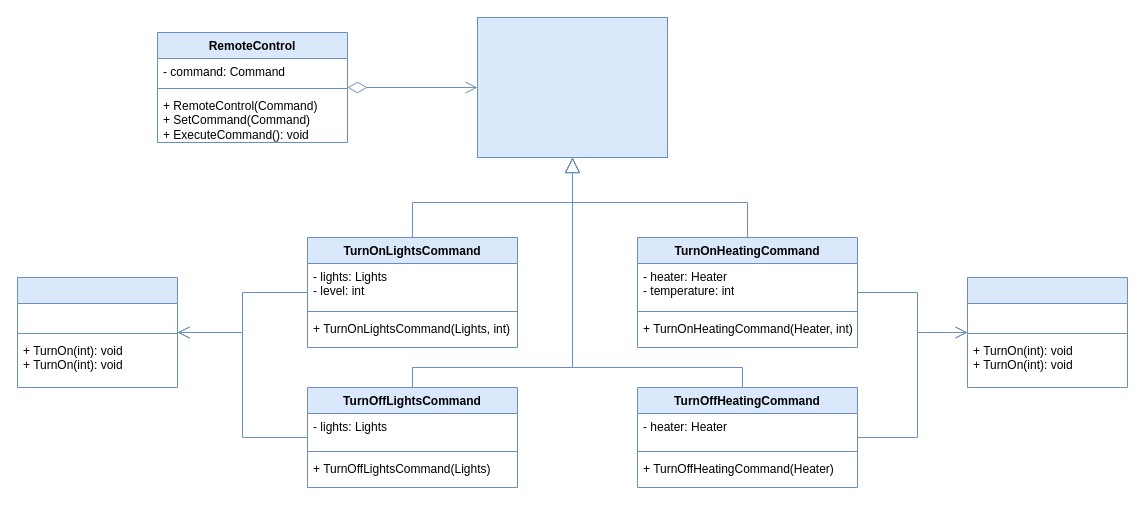
Image size: 1145x508. Some labels were removed from this diagram. The shapes that lost their labels are listed below. From the top down, each one's box as (x1, y1, x2, y2) in pixels, then its label:
(476, 16, 668, 158): <<Interface>> Command + Execute(): void
(16, 276, 178, 388): Lights
(966, 276, 1128, 388): Heater
